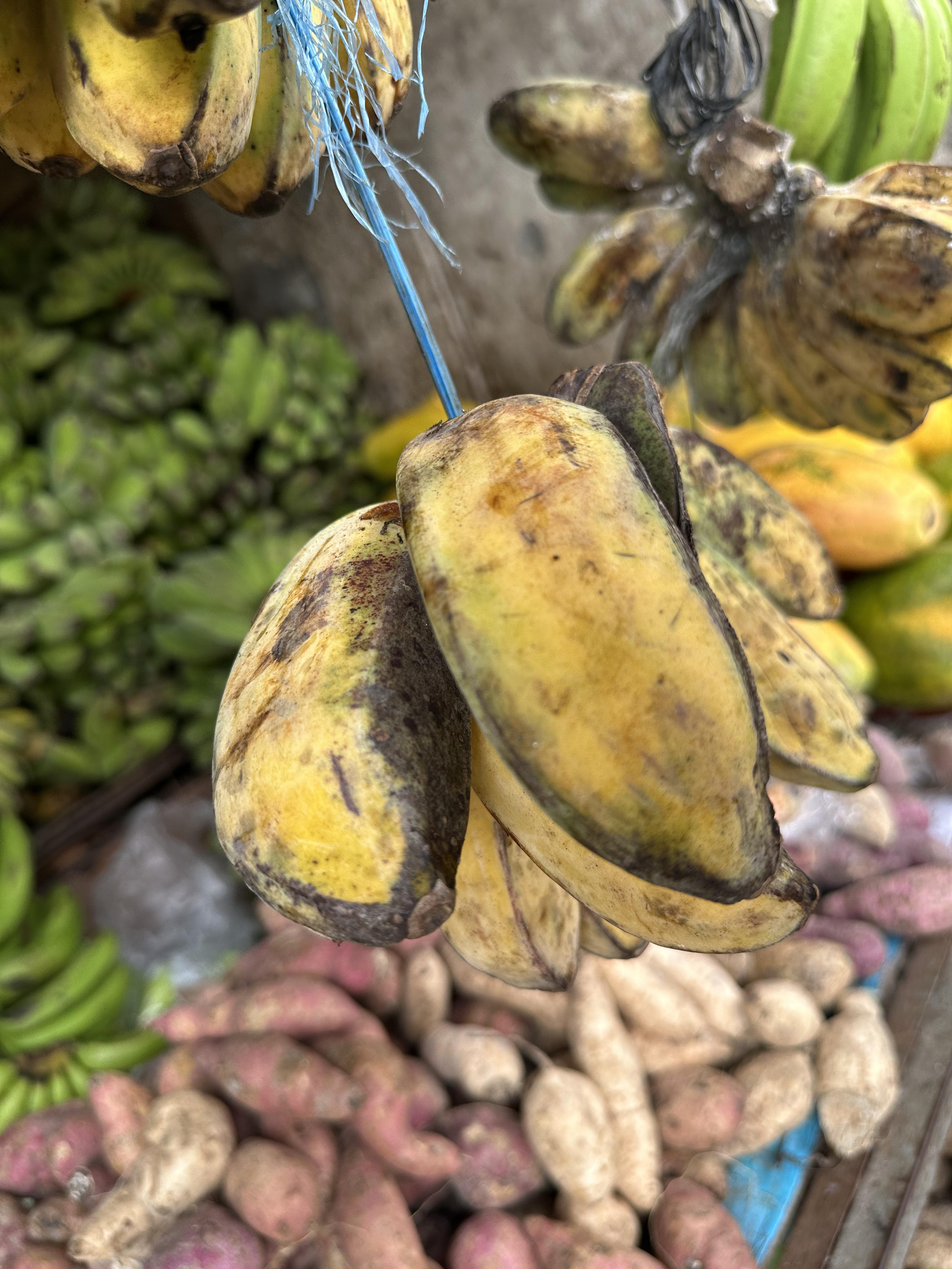underripe: (214, 398, 878, 996), (0, 0, 321, 216), (688, 187, 952, 444), (483, 79, 711, 362)
